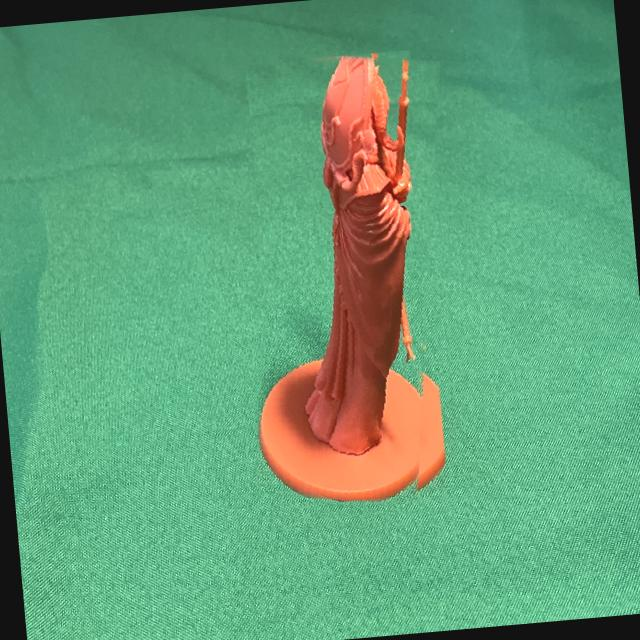amon: (230, 44, 463, 512)
